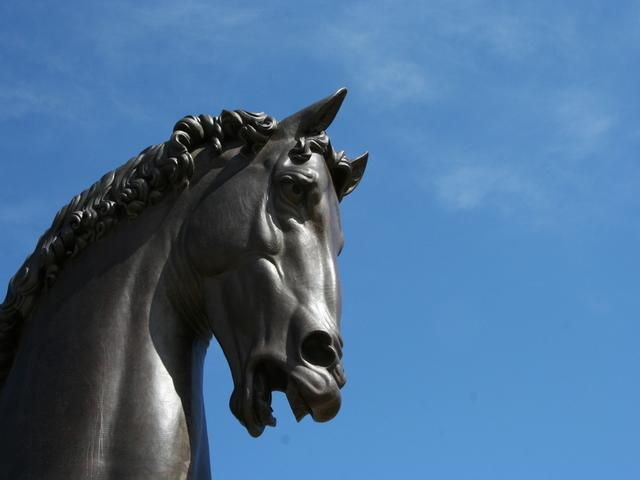horse: (3, 53, 375, 447)
